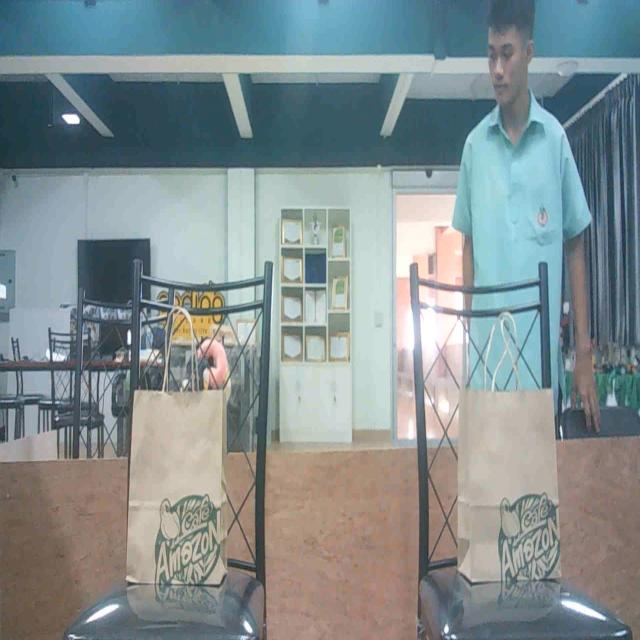bag: (462, 392, 562, 586), (130, 386, 226, 588)
